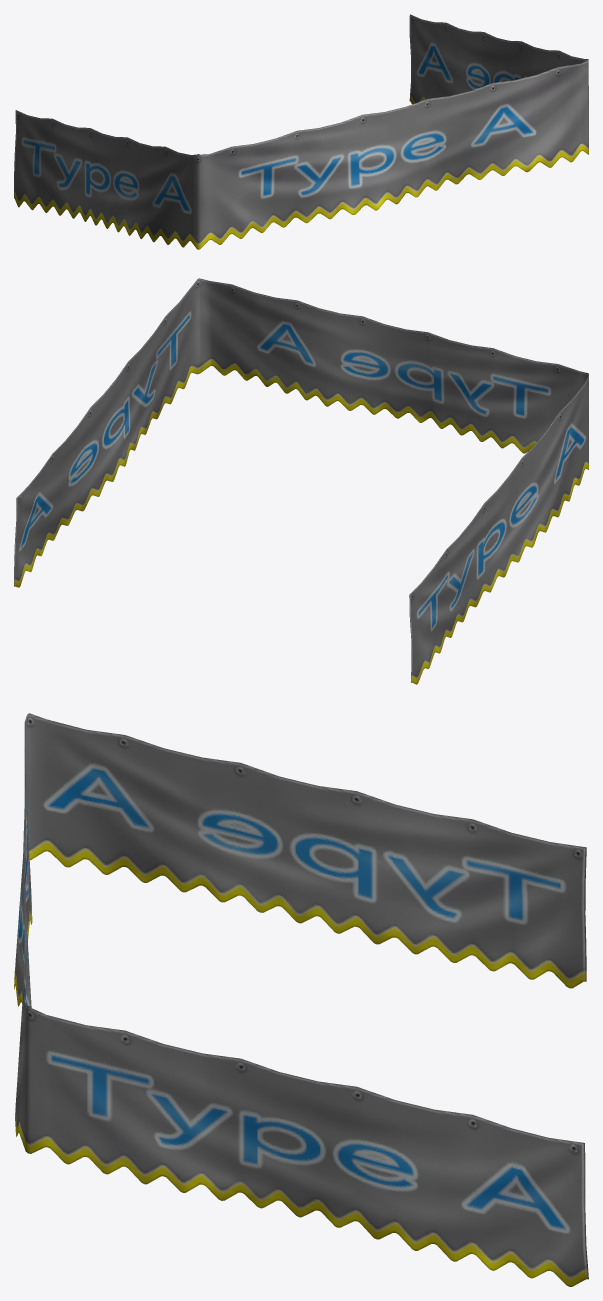
The model's file is jsf_ShopCurtain_a_s02.fbx.
3 views of the same model, one above another, from view 1: azimuth 30°, elevation 25°; view 2: azimuth 150°, elevation 25°; view 3: azimuth 270°, elevation 25° (orthographic). The views are drawn at different scales.
Visible parts, largest first — view 1: jsf_ShopCurtain_a_s02; view 2: jsf_ShopCurtain_a_s02; view 3: jsf_ShopCurtain_a_s02.
Part boxes in pixels (x1=…): jsf_ShopCurtain_a_s02: x1=14, y1=14, x2=588, y2=249; jsf_ShopCurtain_a_s02: x1=14, y1=278, x2=588, y2=684; jsf_ShopCurtain_a_s02: x1=14, y1=713, x2=588, y2=1286.
Size of the model in its own units: 269 by 116 by 216.
